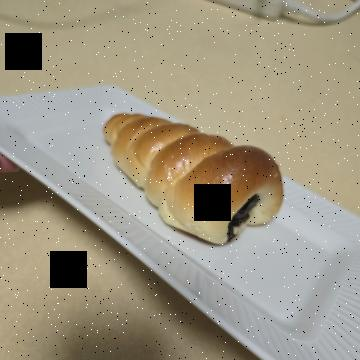cream horn: (95, 72, 261, 276)
